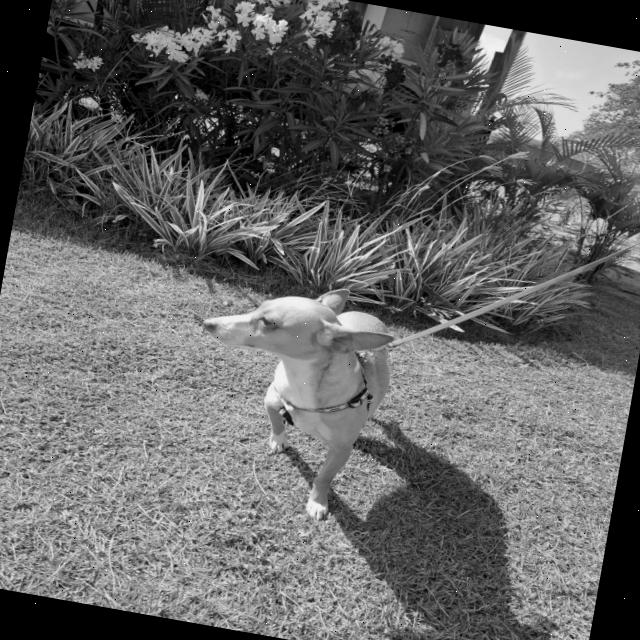chihuahua_dog: (180, 261, 416, 391)
